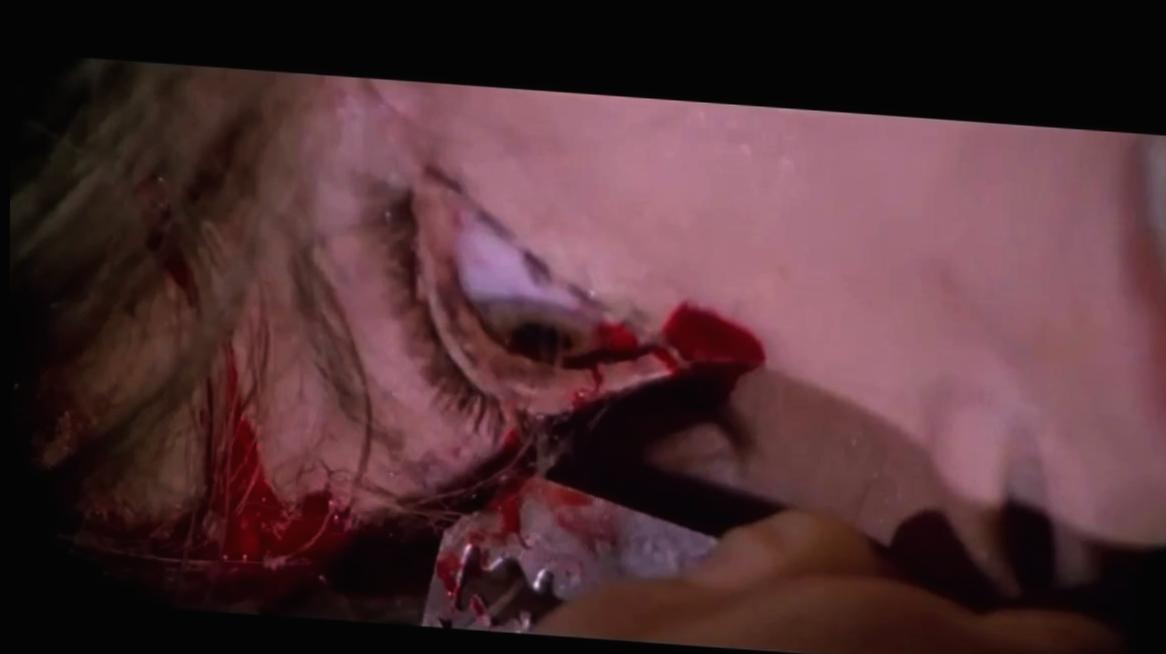Fire: (68, 181, 776, 629)
